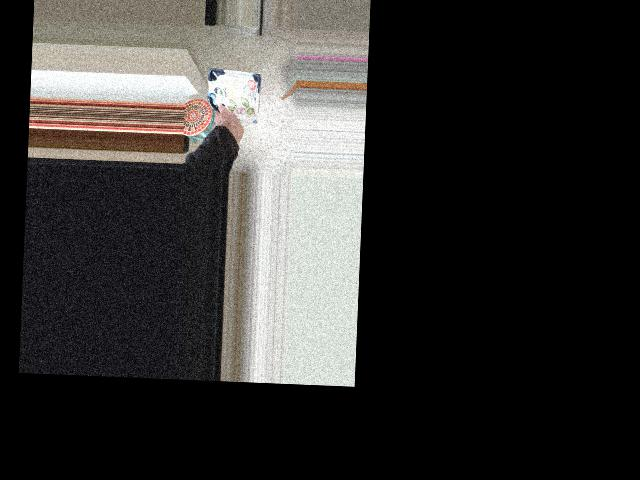cheese: (199, 70, 268, 140)
